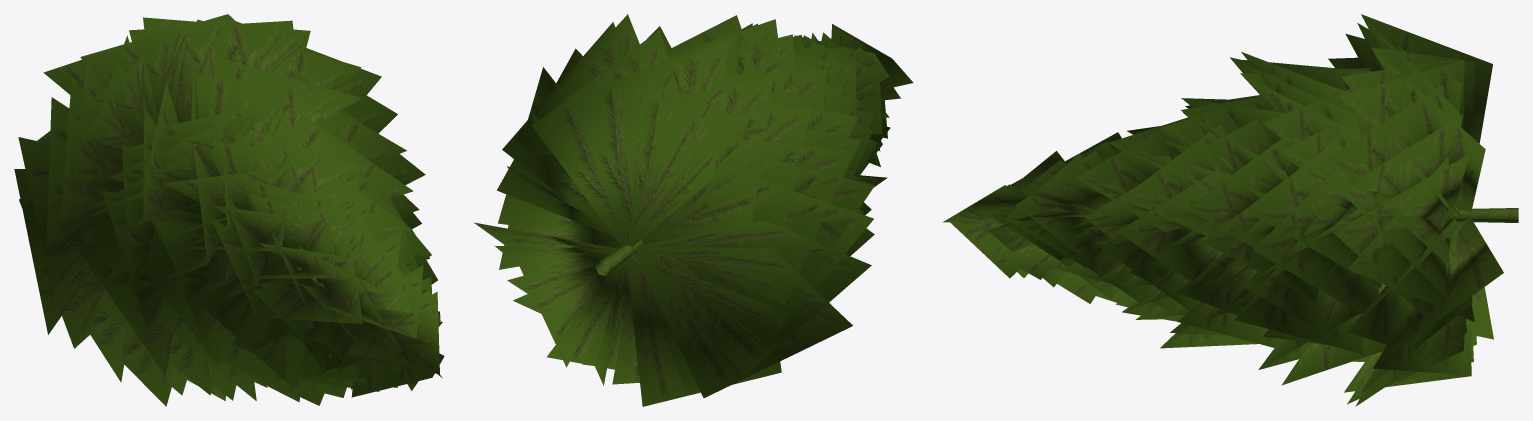
Rendered from fir_fixed.obj.
The picture shows the model from 3 angles, left to right: view 1: azimuth 30°, elevation 25°; view 2: azimuth 150°, elevation 25°; view 3: azimuth 270°, elevation 25°; orthographic projection. The views are drawn at different scales.
Visible parts, largest first — view 1: node1; view 2: node1; view 3: node1.
Part boxes in pixels (x1=…): node1: x1=14, y1=14, x2=444, y2=406; node1: x1=474, y1=14, x2=913, y2=406; node1: x1=942, y1=14, x2=1518, y2=406.
Bounding box in the file's own units: 3.31 × 3.34 × 4.91.
